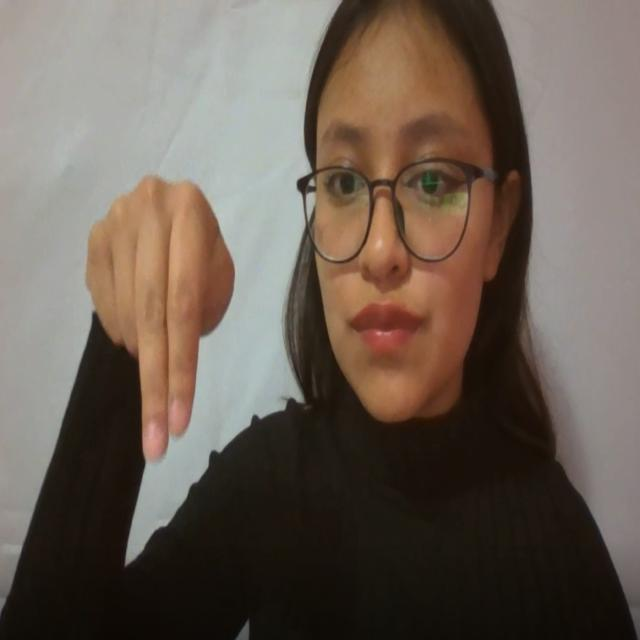N: (74, 165, 246, 480)
